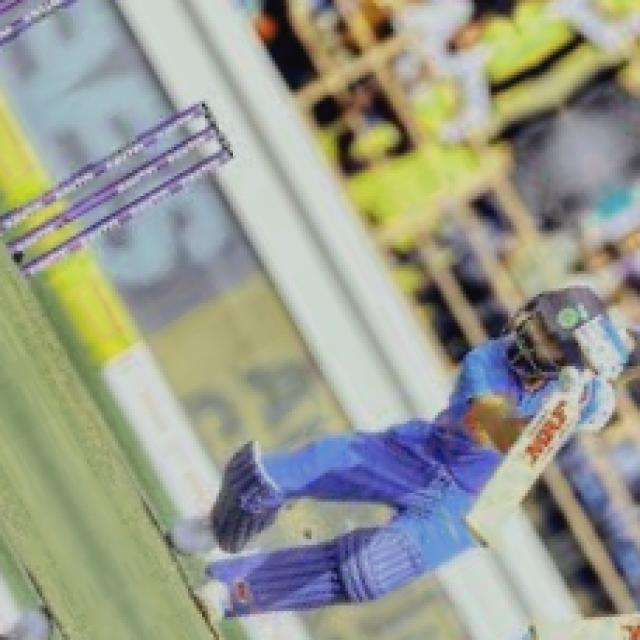toe: (456, 504, 510, 555)
